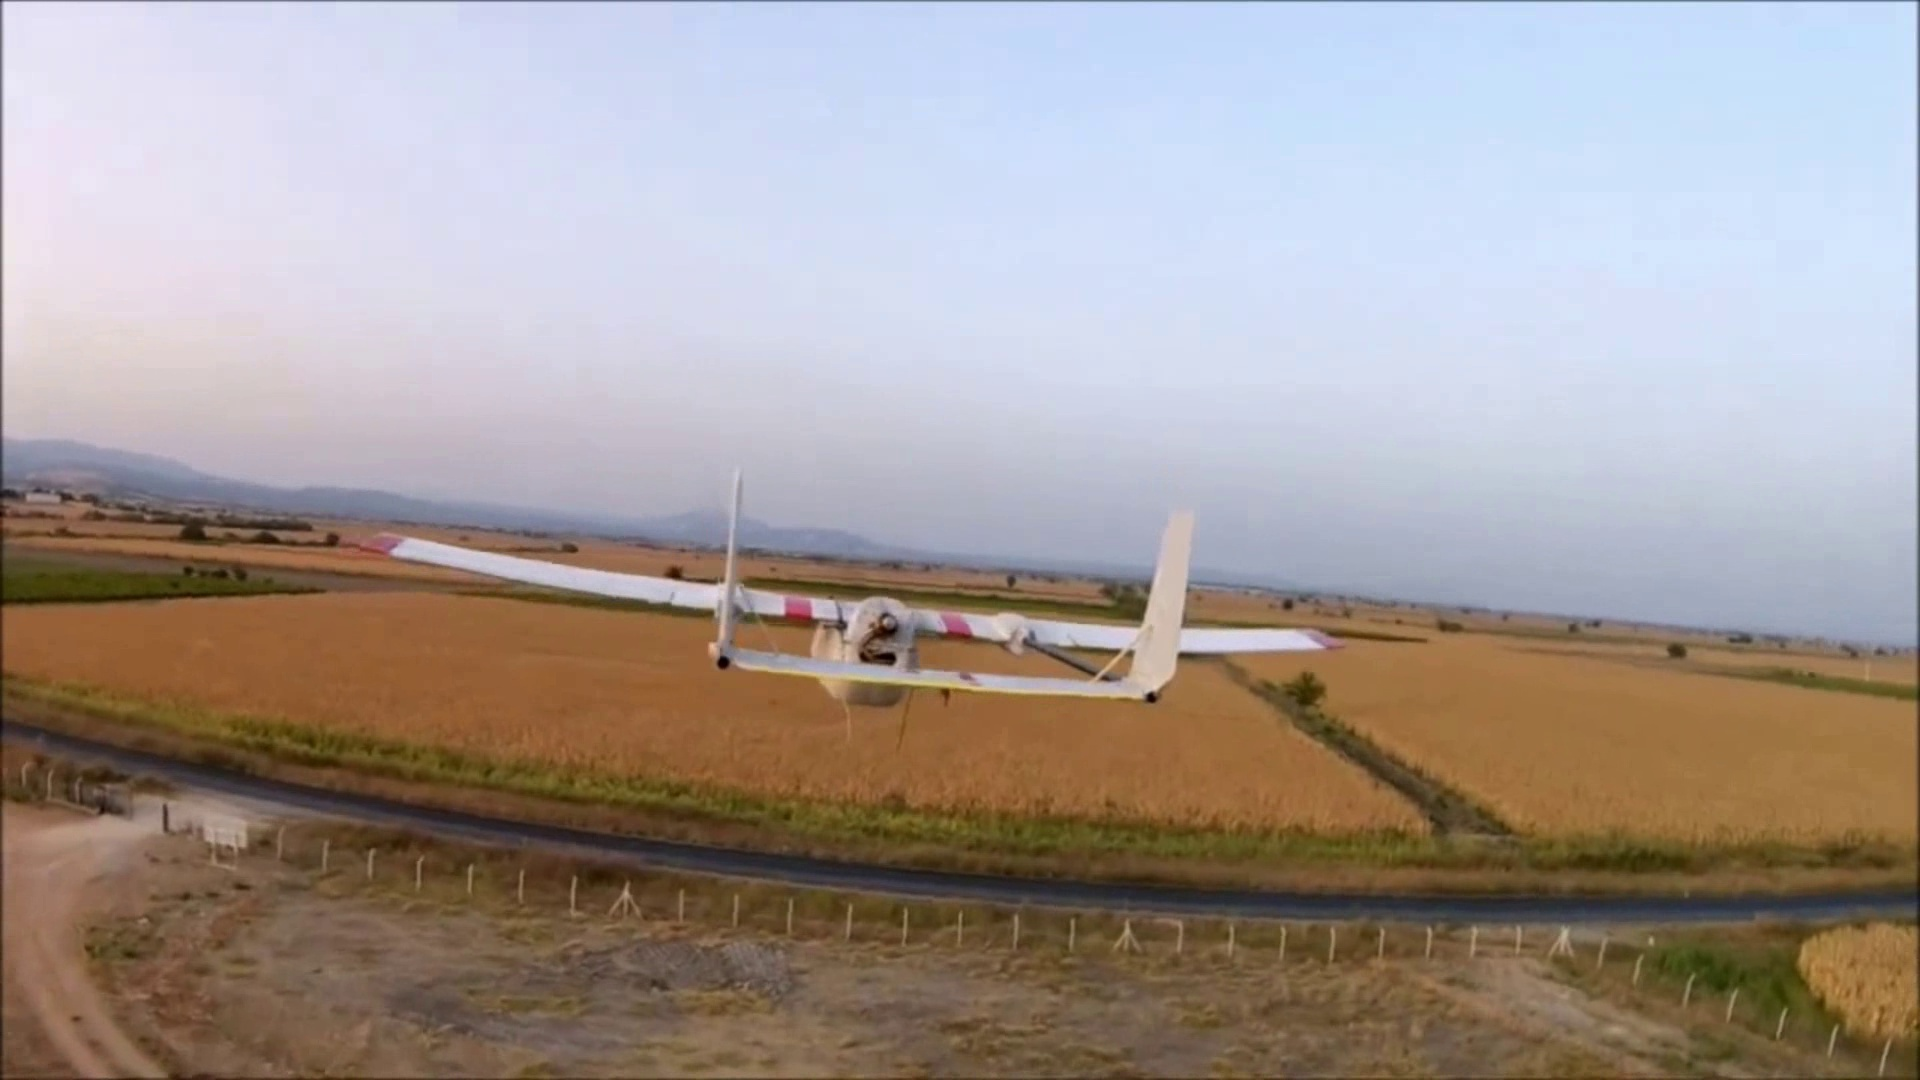airplane: (20, 469, 1344, 705)
